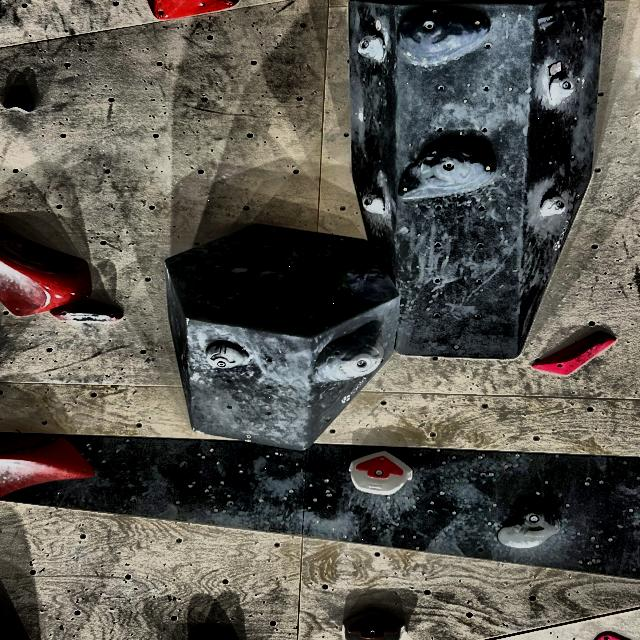Downclimb: (350, 452, 413, 495), (344, 610, 406, 640)
Hold: (0, 227, 91, 316), (0, 433, 95, 498), (399, 139, 496, 200), (399, 4, 490, 66), (315, 323, 383, 382), (533, 332, 616, 375), (498, 504, 561, 549), (51, 299, 123, 324), (148, 0, 239, 19), (205, 342, 250, 370), (546, 73, 576, 106), (356, 32, 386, 62), (539, 191, 569, 219), (4, 91, 35, 113), (361, 191, 387, 215)
Macro: (349, 0, 604, 359), (166, 224, 399, 450)
start_tag: (551, 65, 557, 73), (376, 20, 380, 29)
